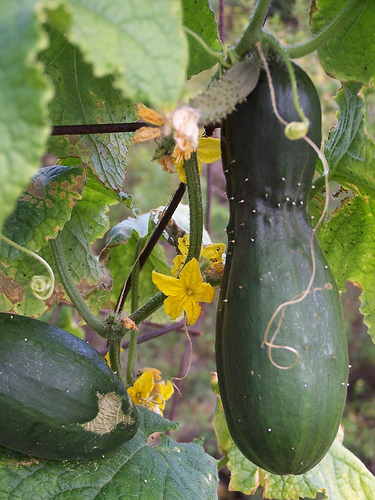cucumber: (212, 37, 352, 480), (0, 312, 141, 467)
